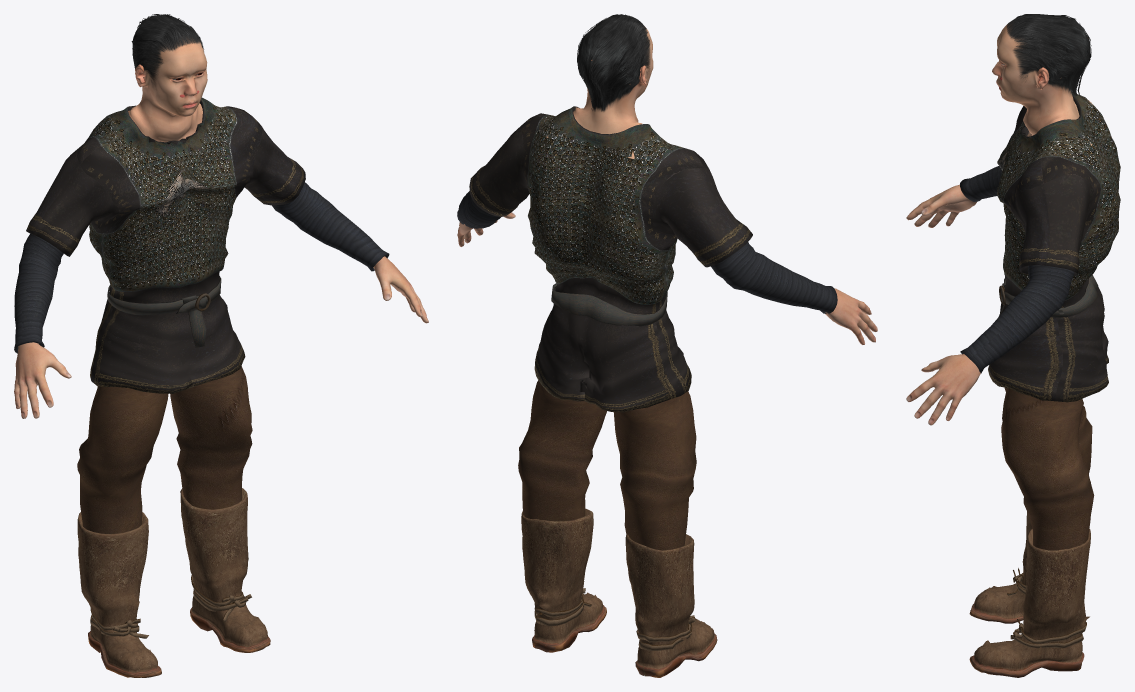
Rendered from control-armor.glb.
3 renders of one model, left to right at view 1: azimuth 30°, elevation 25°; view 2: azimuth 150°, elevation 25°; view 3: azimuth 270°, elevation 25°, orthographic.
Parts seen in each view (by area): view 1: control-armor runtime mesh; view 2: control-armor runtime mesh; view 3: control-armor runtime mesh.
Part boxes in pixels (left/top/right/bottom): control-armor runtime mesh: left=14, top=14, right=428, bottom=677; control-armor runtime mesh: left=457, top=14, right=877, bottom=677; control-armor runtime mesh: left=906, top=14, right=1120, bottom=677.
Bounding box in the file's own units: 1.26 × 1.85 × 0.5745.
6 materials, 6 textured.
